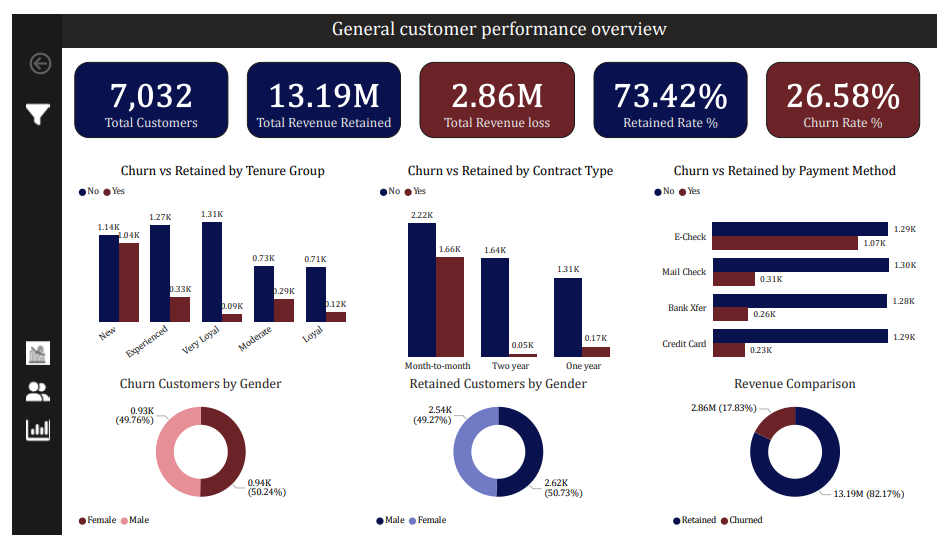

What the dashboard file says about the page in this screenshot:
{"tool":"powerbi","page":{"name":"General Overview","canvas":[1280,720],"ordinal":2},"visuals":[{"type":"card","title":"Overall Charges","fields":{"Values":["Measure.Churn Rate %"]},"box":[1044.3,65.7,212.9,105.7],"z":0},{"type":"actionButton","box":[0,448.6,68.6,40],"z":0,"group":"g1"},{"type":"card","title":"Overall Charges","fields":{"Values":["Measure.Total Customers"]},"box":[85.7,65.7,212.9,105.7],"z":1000},{"type":"actionButton","box":[0,501.5,68.6,40],"z":1000,"group":"g1"},{"type":"card","title":"Overall Charges","fields":{"Values":["Measure.Total Retained Revenue"]},"box":[325,65.7,212.9,105.7],"z":2000},{"type":"actionButton","box":[0,554.3,68.6,40],"z":2000,"group":"g1"},{"type":"card","title":"Overall Charges","fields":{"Values":["Measure.Total Churned Revenue loss"]},"box":[564.3,65.7,214.3,105.7],"z":3000},{"type":"card","title":"Overall Charges","fields":{"Values":["Measure.Retained Rate %"]},"box":[805,65.7,212.9,105.7],"z":4000},{"type":"textbox","box":[68.6,0,1211.4,47.1],"z":5000},{"type":"shape","box":[0,0,68.9,720.6],"z":6000},{"type":"group","id":"g1","title":"Page Navigation","box":[0,448.6,68.6,145.7],"z":7000},{"type":"clusteredColumnChart","title":"Churn vs Retained by Tenure Group","fields":{"Category":["Telco-Customer-Churn.Tenure Group"],"Y":["CountNonNull(Telco-Customer-Churn.customerID)"],"Series":["Telco-Customer-Churn.Churn"]},"box":[86.4,207.4,410.4,293.8],"z":8000},{"type":"clusteredColumnChart","title":"Churn vs Retained  by Contract Type","fields":{"Category":["Telco-Customer-Churn.Contract"],"Y":["CountNonNull(Telco-Customer-Churn.customerID)"],"Series":["Telco-Customer-Churn.Churn"]},"box":[502.6,207.4,374.4,293.8],"z":9000},{"type":"donutChart","title":"Churn Customers by Gender","fields":{"Category":["Telco-Customer-Churn.gender"],"Y":["Measure.Total Churned Customers"]},"box":[86.4,501.1,350,218.9],"z":10000},{"type":"donutChart","title":" Retained Customers by Gender","fields":{"Category":["Telco-Customer-Churn.gender"],"Y":["Measure.Retained Customers"]},"box":[497.5,501.1,350,218.9],"z":11000},{"type":"donutChart","title":"Revenue Comparison","fields":{"Category":["Telco-Customer-Churn.CustomerStatus"],"Y":["Measure.Total Charges"]},"box":[908.6,501.1,350,218.9],"z":12000},{"type":"clusteredBarChart","title":"Churn vs Retained  by Payment Method","fields":{"Category":["Telco-Customer-Churn.AbbreviatedPayment"],"Y":["CountNonNull(Telco-Customer-Churn.customerID)"],"Series":["Telco-Customer-Churn.Churn"]},"box":[882.7,207.4,374.4,293.8],"z":13000},{"type":"actionButton","box":[18.7,47.5,50.4,40.3],"z":14000},{"type":"actionButton","box":[0,118.1,69.1,40.3],"z":15000}]}

Visuals, with their boxes on the page's 1280x720 design canvas (x1, y1, x2, y2). These are canvas units, not pixel positions in the 950x546 screenshot, which may show the page scaled, cropped or inside an application window:
"Overall Charges" card: crop(1044, 66, 1257, 171)
actionButton: crop(0, 449, 69, 489)
"Overall Charges" card: crop(86, 66, 299, 171)
actionButton: crop(0, 502, 69, 542)
"Overall Charges" card: crop(325, 66, 538, 171)
actionButton: crop(0, 554, 69, 594)
"Overall Charges" card: crop(564, 66, 779, 171)
"Overall Charges" card: crop(805, 66, 1018, 171)
textbox: crop(69, 0, 1280, 47)
shape: crop(0, 0, 69, 721)
"Page Navigation" group: crop(0, 449, 69, 594)
"Churn vs Retained by Tenure Group" clusteredColumnChart: crop(86, 207, 497, 501)
"Churn vs Retained  by Contract Type" clusteredColumnChart: crop(503, 207, 877, 501)
"Churn Customers by Gender" donutChart: crop(86, 501, 436, 720)
" Retained Customers by Gender" donutChart: crop(498, 501, 848, 720)
"Revenue Comparison" donutChart: crop(909, 501, 1259, 720)
"Churn vs Retained  by Payment Method" clusteredBarChart: crop(883, 207, 1257, 501)
actionButton: crop(19, 48, 69, 88)
actionButton: crop(0, 118, 69, 158)
